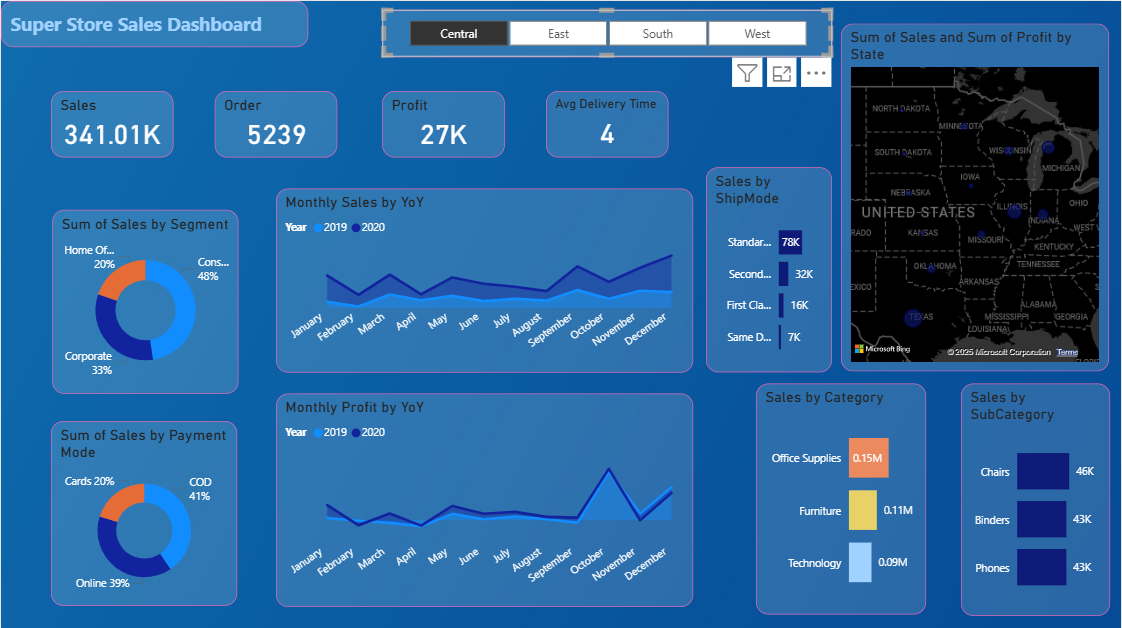

What the dashboard file says about the page in this screenshot:
{"tool":"powerbi","page":{"name":"Page 1","canvas":[1280,720],"ordinal":0},"visuals":[{"type":"clusteredBarChart","title":"Sales by Category","fields":{"Category":["Sheet1.Category"],"Y":["Sum(Sheet1.Sales)"]},"box":[862.9,437.1,194.3,264.3],"z":0},{"type":"clusteredBarChart","title":"Sales by ShipMode","fields":{"Category":["Sheet1.Ship Mode"],"Y":["Sum(Sheet1.Sales)"]},"box":[805.7,190,144.3,234.3],"z":1000},{"type":"stackedAreaChart","title":"Monthly Sales by YoY","fields":{"Y":["Sum(Sheet1.Sales)"],"Series":["Sheet1.Order Date.Variation.Date Hierarchy.Year"],"Category":["Sheet1.Order Date.Variation.Date Hierarchy.Month","Sheet1.Order Date.Variation.Date Hierarchy.Day"]},"box":[314.3,214.3,477.1,210],"z":2000},{"type":"stackedAreaChart","title":"Monthly Profit by YoY","fields":{"Series":["Sheet1.Order Date.Variation.Date Hierarchy.Year"],"Category":["Sheet1.Order Date.Variation.Date Hierarchy.Month","Sheet1.Order Date.Variation.Date Hierarchy.Day"],"Y":["Sum(Sheet1.Profit)"]},"box":[314.3,448.6,477.1,244.3],"z":3000},{"type":"clusteredBarChart","title":"Sales by SubCategory","fields":{"Category":["Sheet1.Sub-Category"],"Y":["Sum(Sheet1.Sales)"]},"box":[1097.1,437.1,170,265.7],"z":4000},{"type":"map","fields":{"Category":["Sheet1.State"],"Size":["Sum(Sheet1.Sales)"]},"box":[960,26.2,306.2,397.5],"z":5000},{"type":"donutChart","fields":{"Category":["Sheet1.Segment"],"Y":["Sum(Sheet1.Sales)"]},"box":[58.6,238.6,212.9,210],"z":6000},{"type":"donutChart","fields":{"Category":["Sheet1.Payment Mode"],"Y":["Sum(Sheet1.Sales)"]},"box":[57.1,480,212.9,211.4],"z":7000},{"type":"slicer","fields":{"Values":["Sheet1.Region"]},"box":[435.7,10,514.3,54.3],"z":8000},{"type":"textbox","box":[0,0,351.4,52.9],"z":9000},{"type":"card","title":"Sales","fields":{"Values":["Sum(Sheet1.Sales)"]},"box":[57.1,102.9,140,75.7],"z":10000},{"type":"card","title":"Order","fields":{"Values":["Sum(Sheet1.Quantity)"]},"box":[244.3,102.9,140,75.7],"z":11000},{"type":"card","title":"Profit","fields":{"Values":["Sum(Sheet1.Profit)"]},"box":[435.7,102.9,140,75.7],"z":12000},{"type":"card","title":"Avg Delivery Time","fields":{"Values":["Avg(Sheet1.AvgDelivery)"]},"box":[622.9,102.9,140,75.7],"z":13000}]}

Visuals, with their boxes in screenshot pixels (x1, y1, x2, y2), scaled from the page's 1280x720 canvas onto the 1122x628 screenshot:
"Sales by Category" clusteredBarChart: select_region(756, 381, 927, 612)
"Sales by ShipMode" clusteredBarChart: select_region(706, 166, 833, 370)
"Monthly Sales by YoY" stackedAreaChart: select_region(276, 187, 694, 370)
"Monthly Profit by YoY" stackedAreaChart: select_region(276, 391, 694, 604)
"Sales by SubCategory" clusteredBarChart: select_region(962, 381, 1111, 613)
map - Sheet1.State x Sum(Sheet1.Sales): select_region(842, 23, 1110, 370)
donutChart - Sheet1.Segment x Sum(Sheet1.Sales): select_region(51, 208, 238, 391)
donutChart - Sheet1.Payment Mode x Sum(Sheet1.Sales): select_region(50, 419, 237, 603)
slicer - Sheet1.Region: select_region(382, 9, 833, 56)
textbox: select_region(0, 0, 308, 46)
"Sales" card: select_region(50, 90, 173, 156)
"Order" card: select_region(214, 90, 337, 156)
"Profit" card: select_region(382, 90, 505, 156)
"Avg Delivery Time" card: select_region(546, 90, 669, 156)
